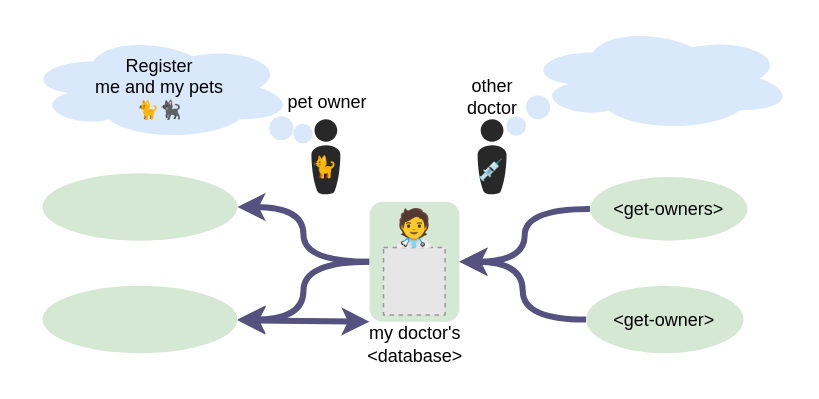
The diagram is 819 pixels wide and 399 high, and some of its shapes have lost their labels. Grey dashed boxes stand in for pictures. Each missing label, with the centre of its shape:
<change-owners>: (139,318)
<create-owners>: (139,206)
What is the medical background of these cats?: (658,78)
